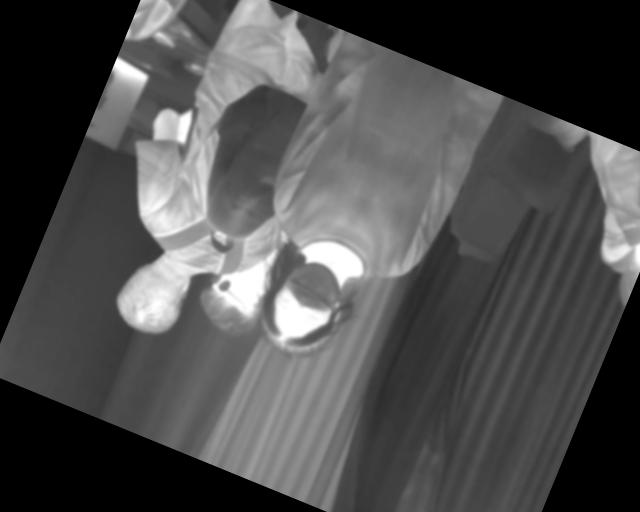face: (257, 251, 355, 365)
